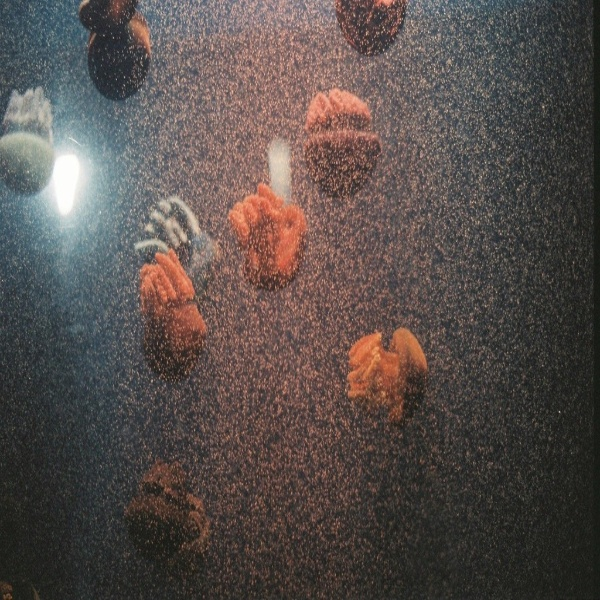Jellyfish: (137, 245, 203, 382), (301, 85, 379, 194), (73, 0, 152, 107), (349, 325, 429, 427), (230, 180, 304, 290), (3, 82, 61, 210), (332, 0, 408, 54)
